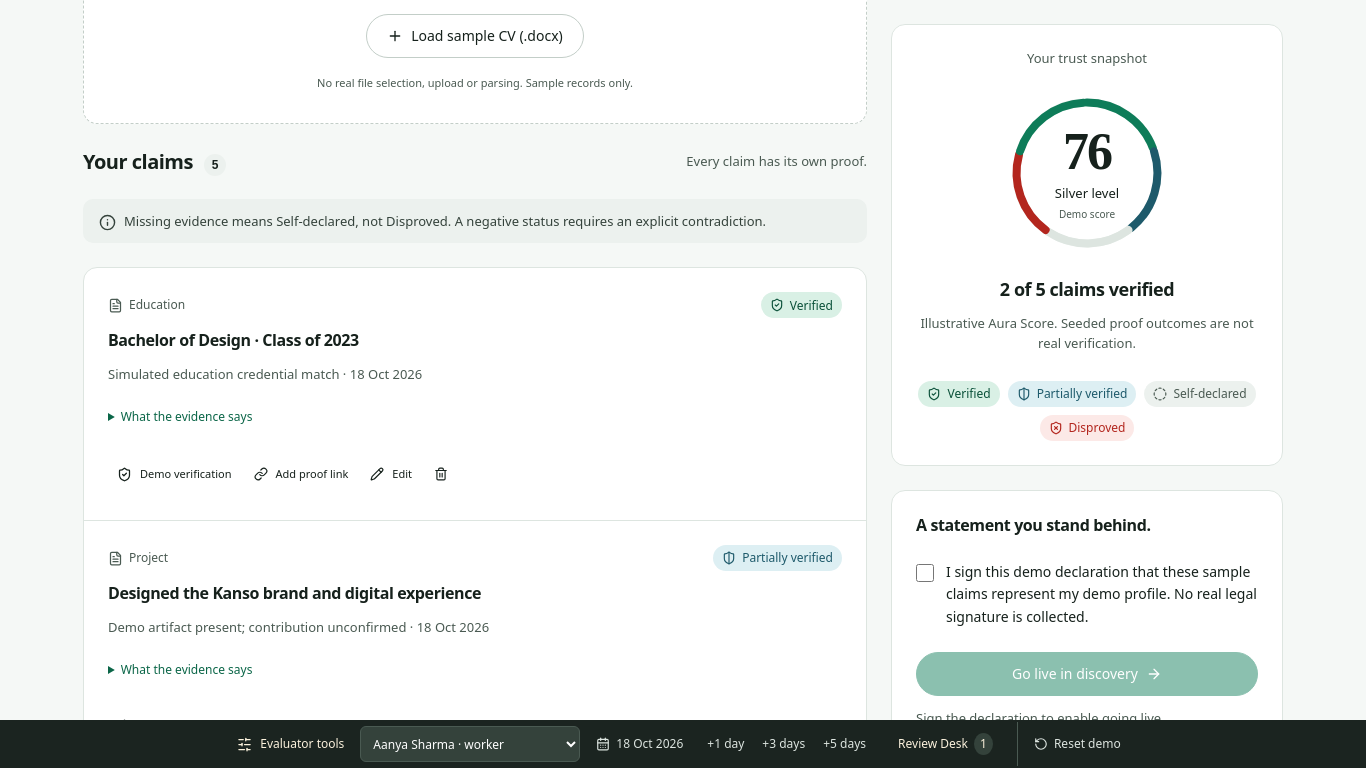
Test: routes and interactions › gates CV publication and allows claim edits
(page scrolled)
Expected: the button "Go live in discovery" is disabled, 916,652 -> 1258,696
Step 1. Click the checkbox labelled "I sign this demo" → (925, 573), box 916,564 -> 934,582
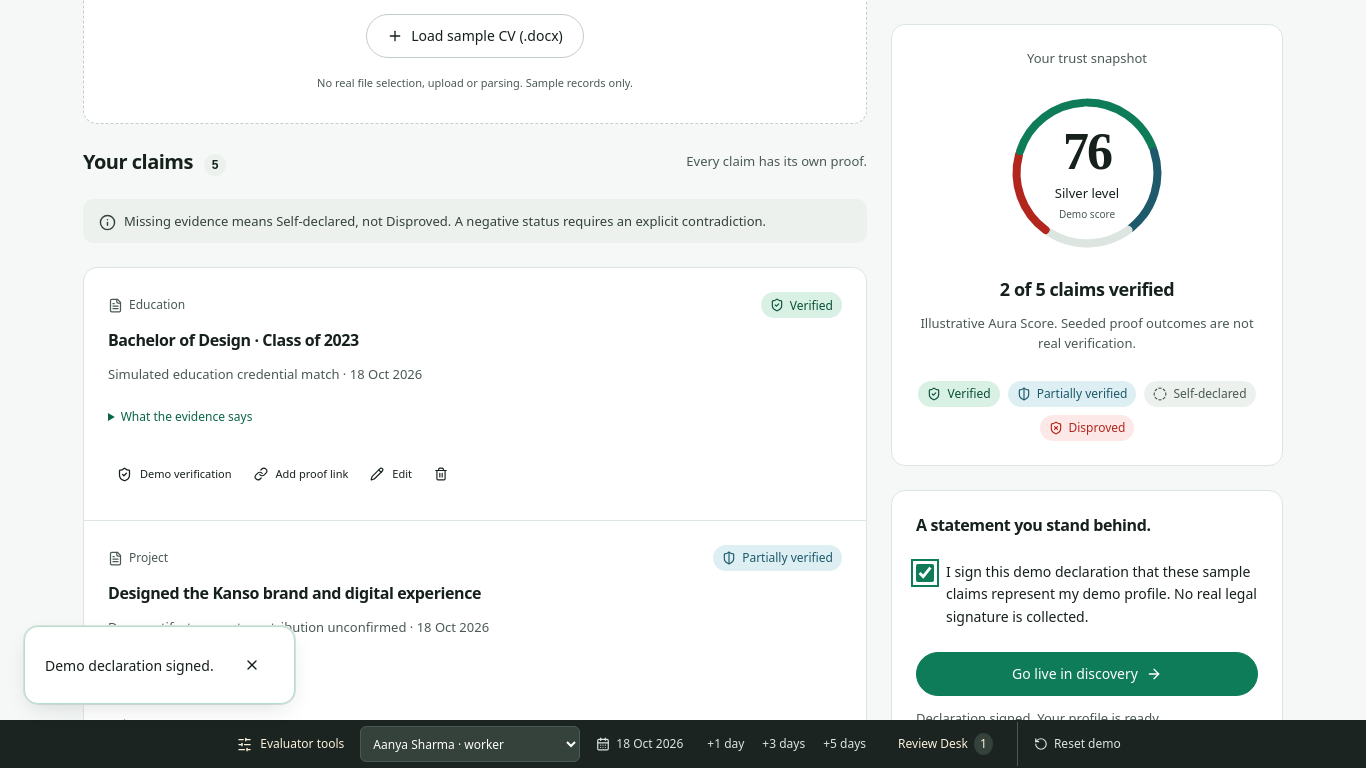
Step 2. Click the button "Go live in discovery" → (1087, 674), box 916,652 -> 1258,696
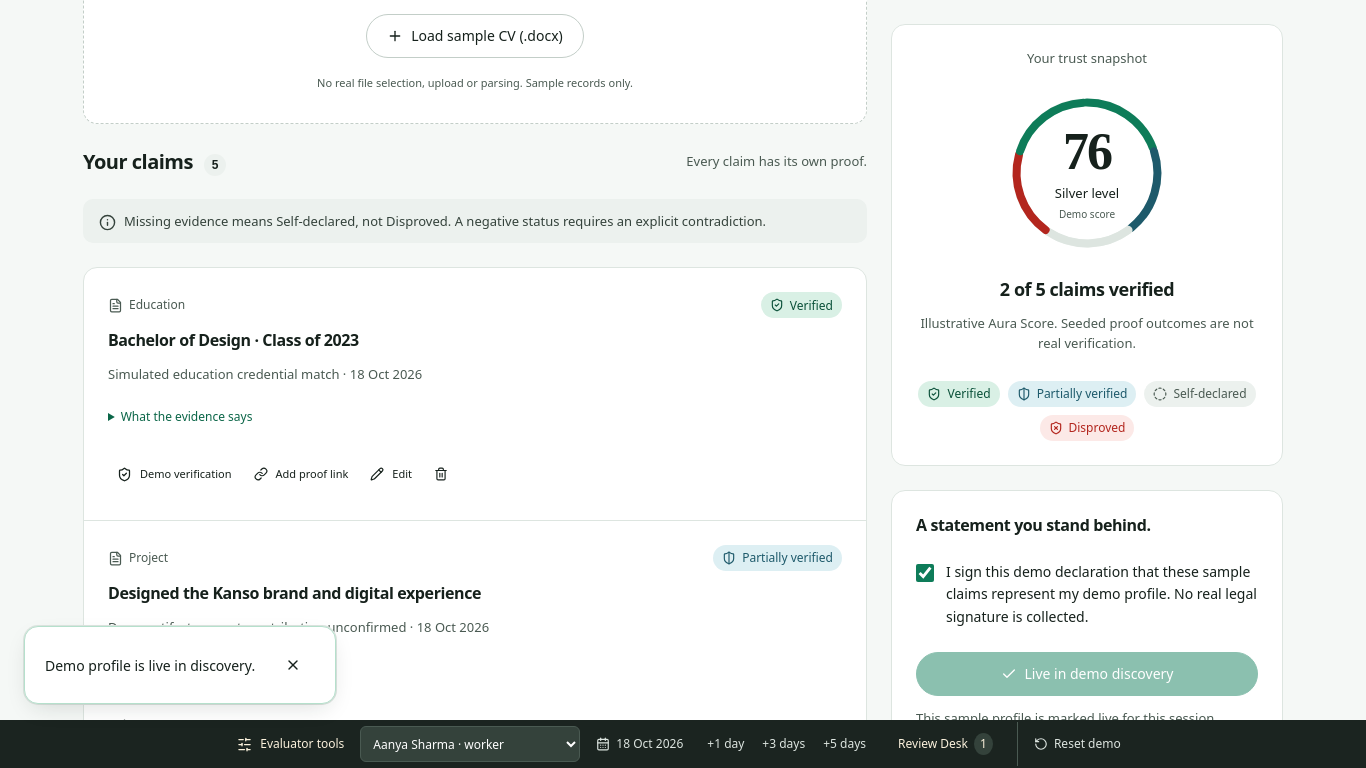
Expected: the button "Live in demo discovery" is disabled, 916,652 -> 1258,696
Step 3. Click the button with aria-label "Edit claim: Bachelor" → (391, 474), box 361,452 -> 421,496
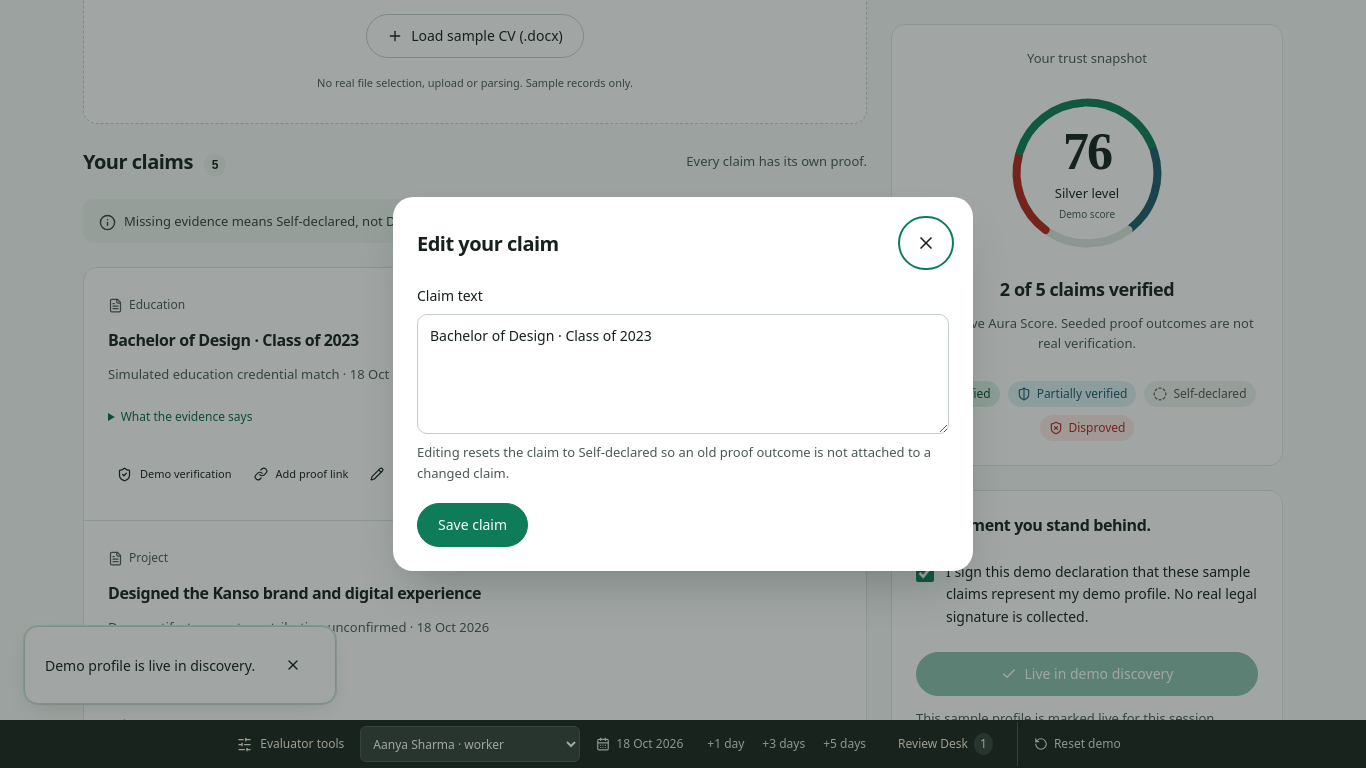
Step 4. Replace the text in the text box labelled "Claim text" with "A new and honest sample claim" → (683, 374), box 417,314 -> 949,434
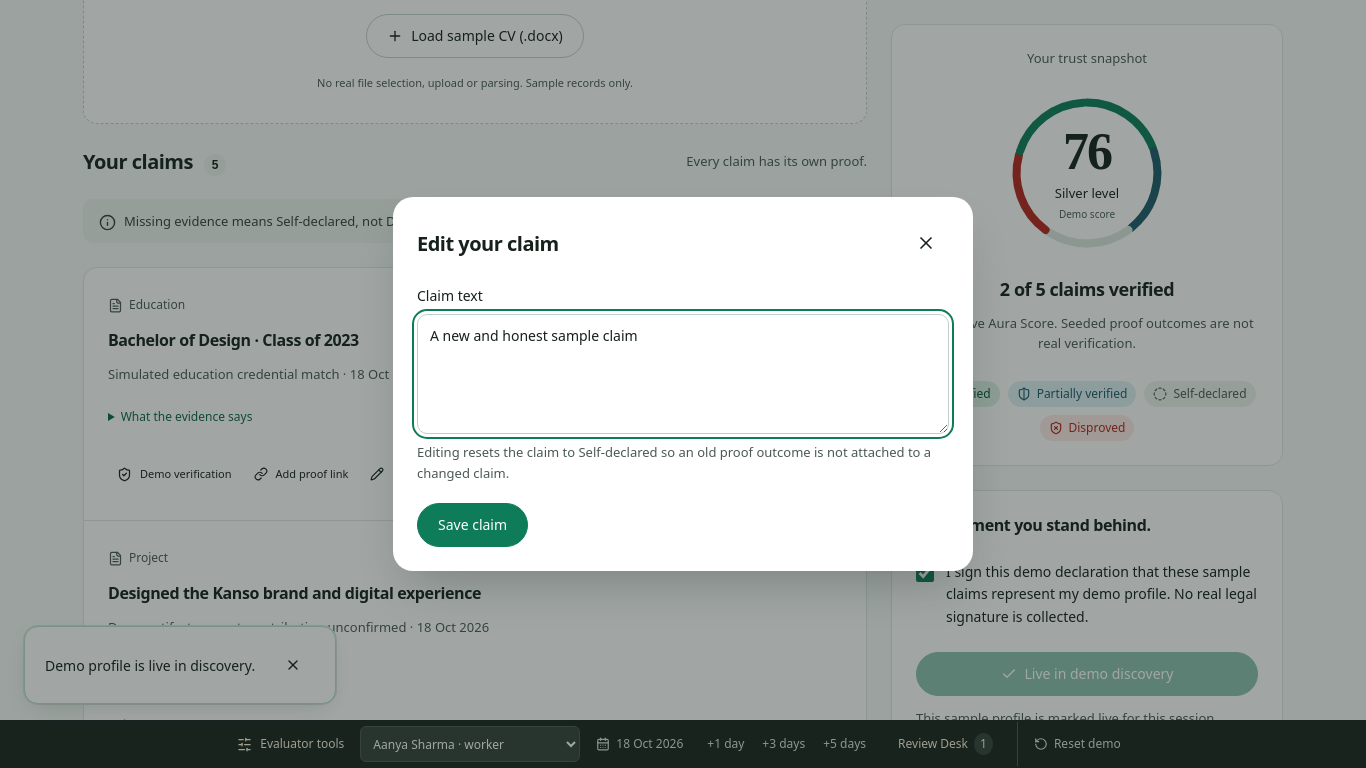
Step 5. Click the button "Save claim" → (473, 525), box 417,503 -> 528,547
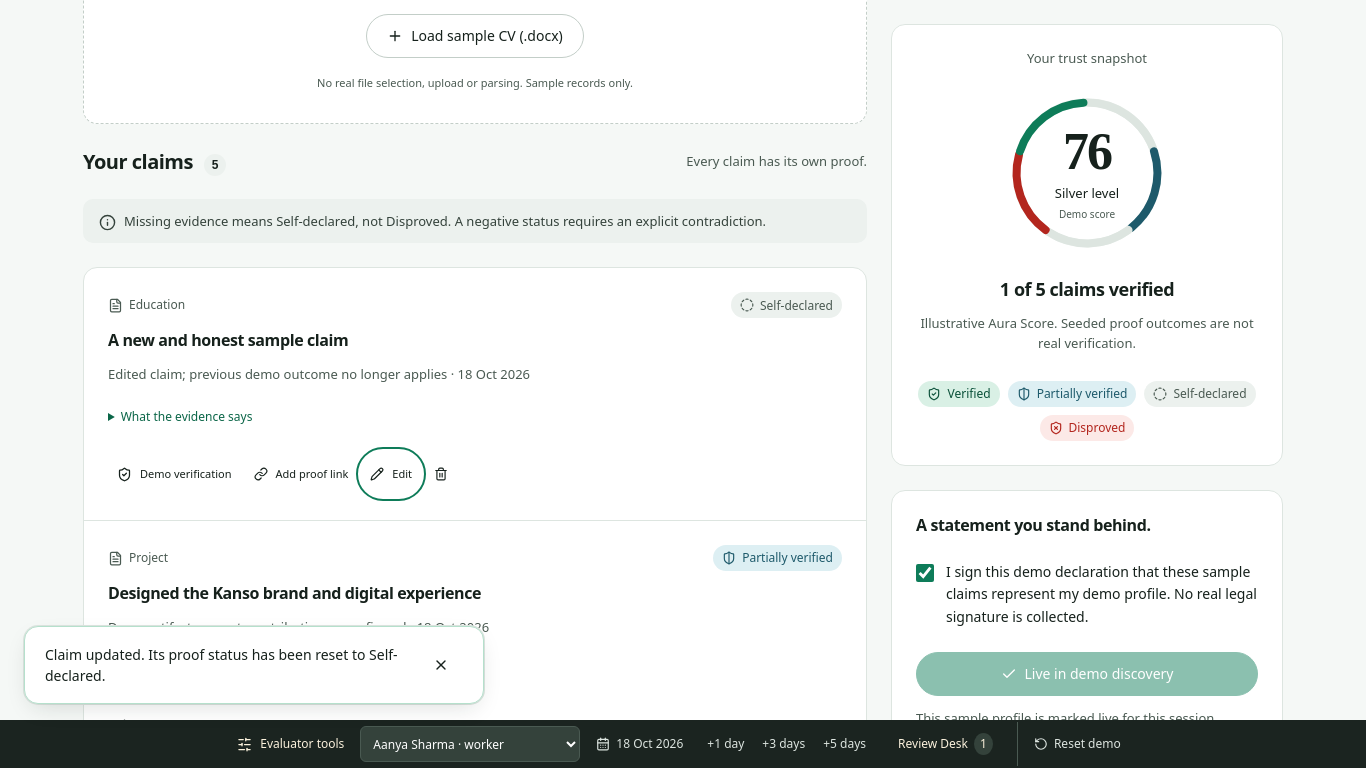
Expected: the heading "A new and honest sample claim" is shown, 108,329 -> 348,351
